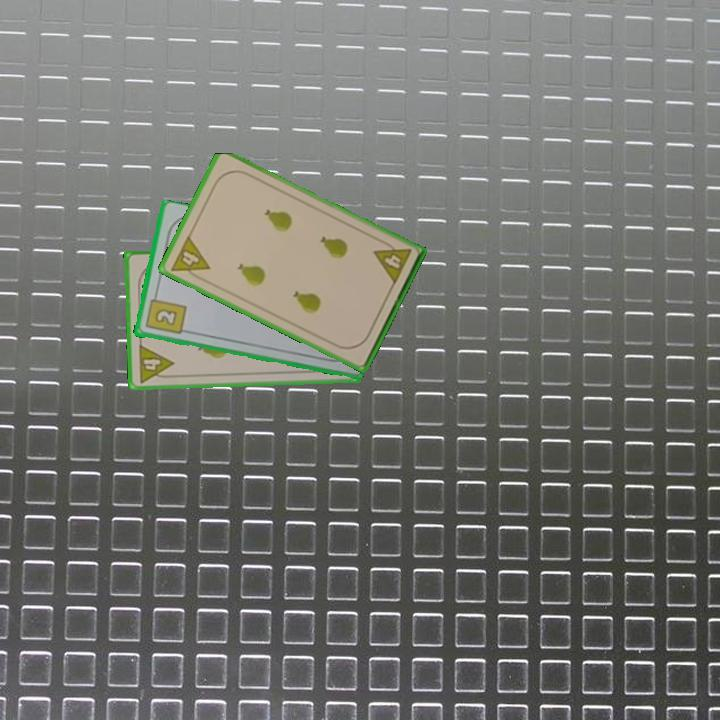2b: (142, 290, 188, 337)
4p: (167, 232, 213, 284), (370, 236, 414, 287), (134, 341, 176, 385)
